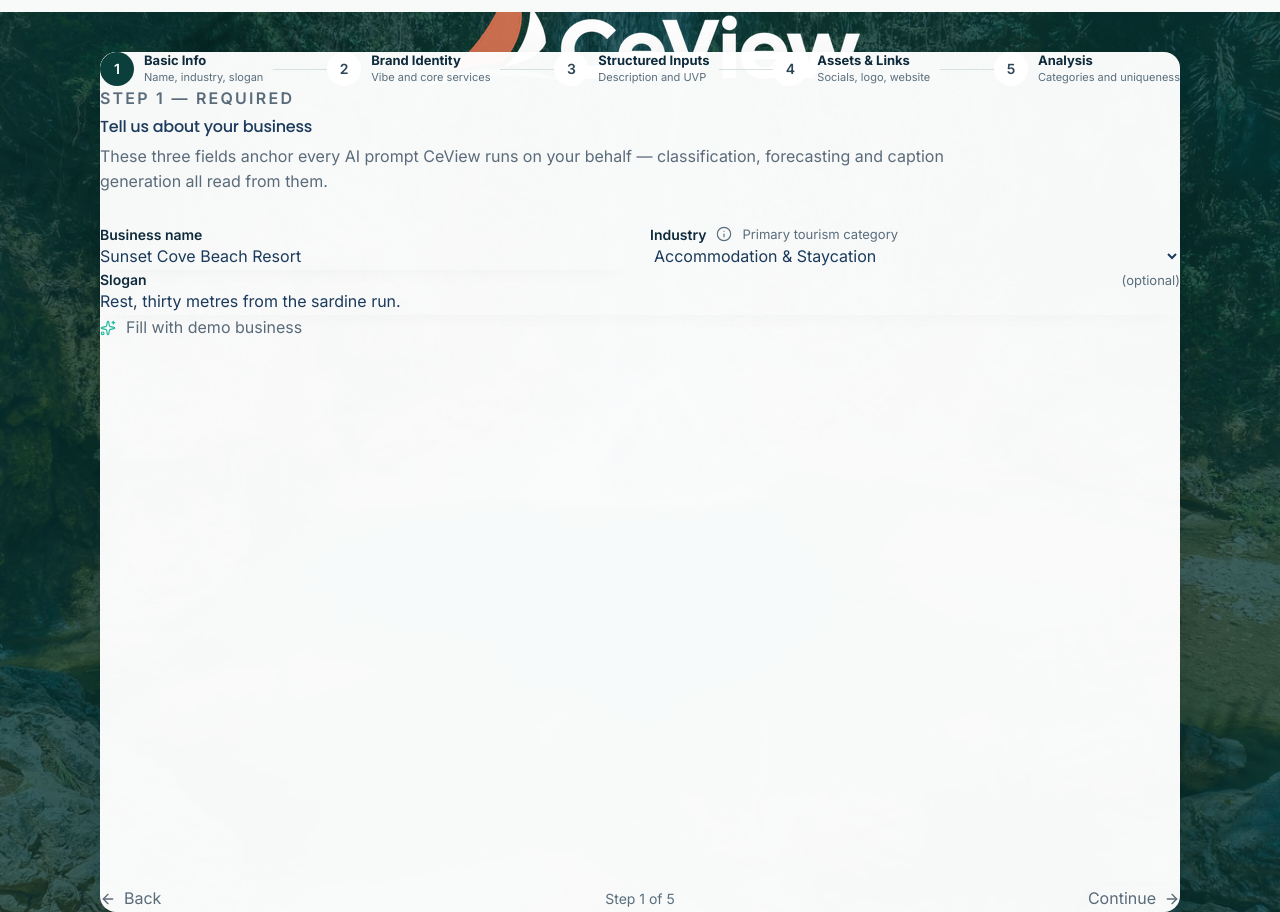
Test: OnboardingWizard › reaches Assets & Links after three Continues and renders that step
Click the button "Continue": (1134, 899) x1=1088 y1=886 x2=1180 y2=911
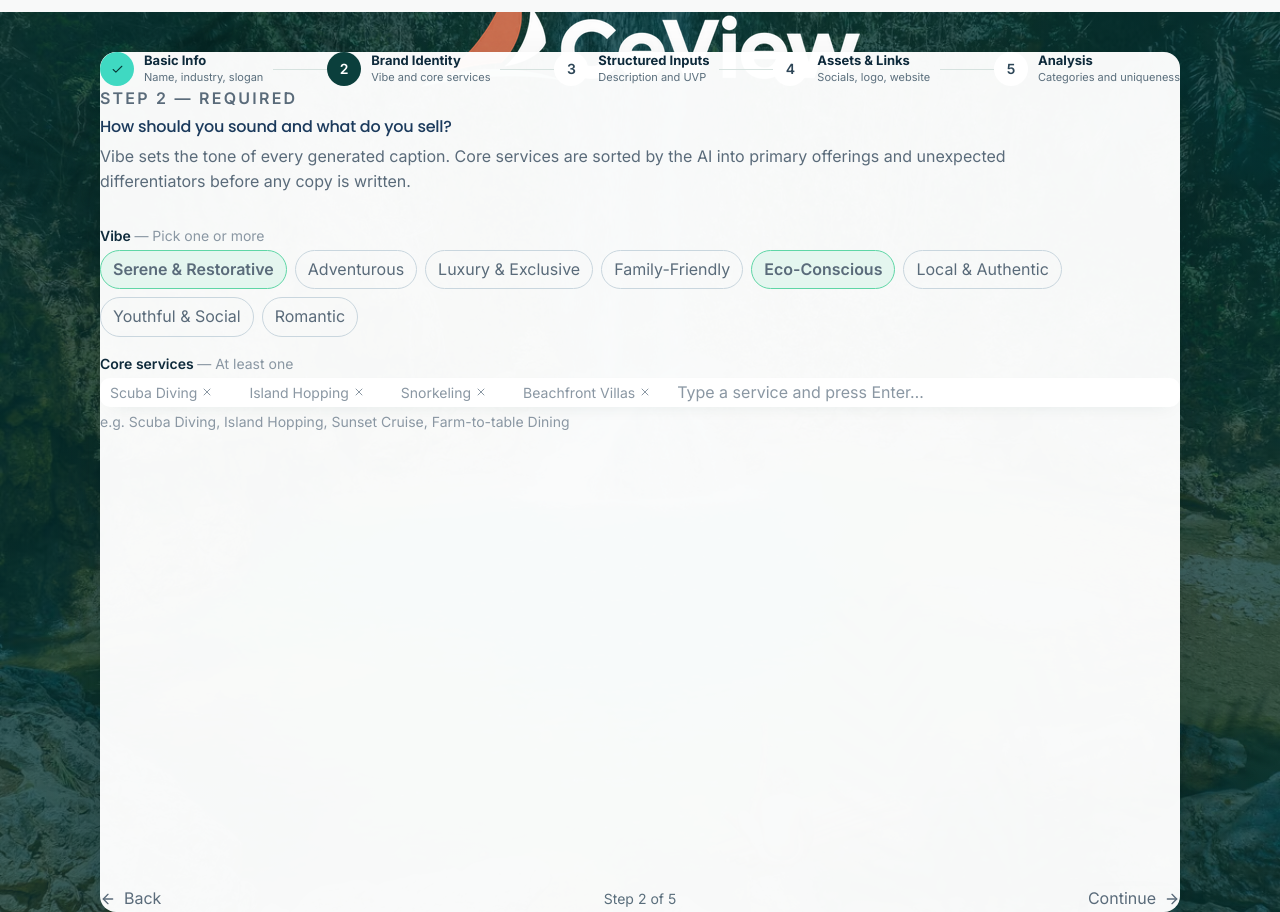
Click the button "Continue": (1134, 899) x1=1088 y1=886 x2=1180 y2=911
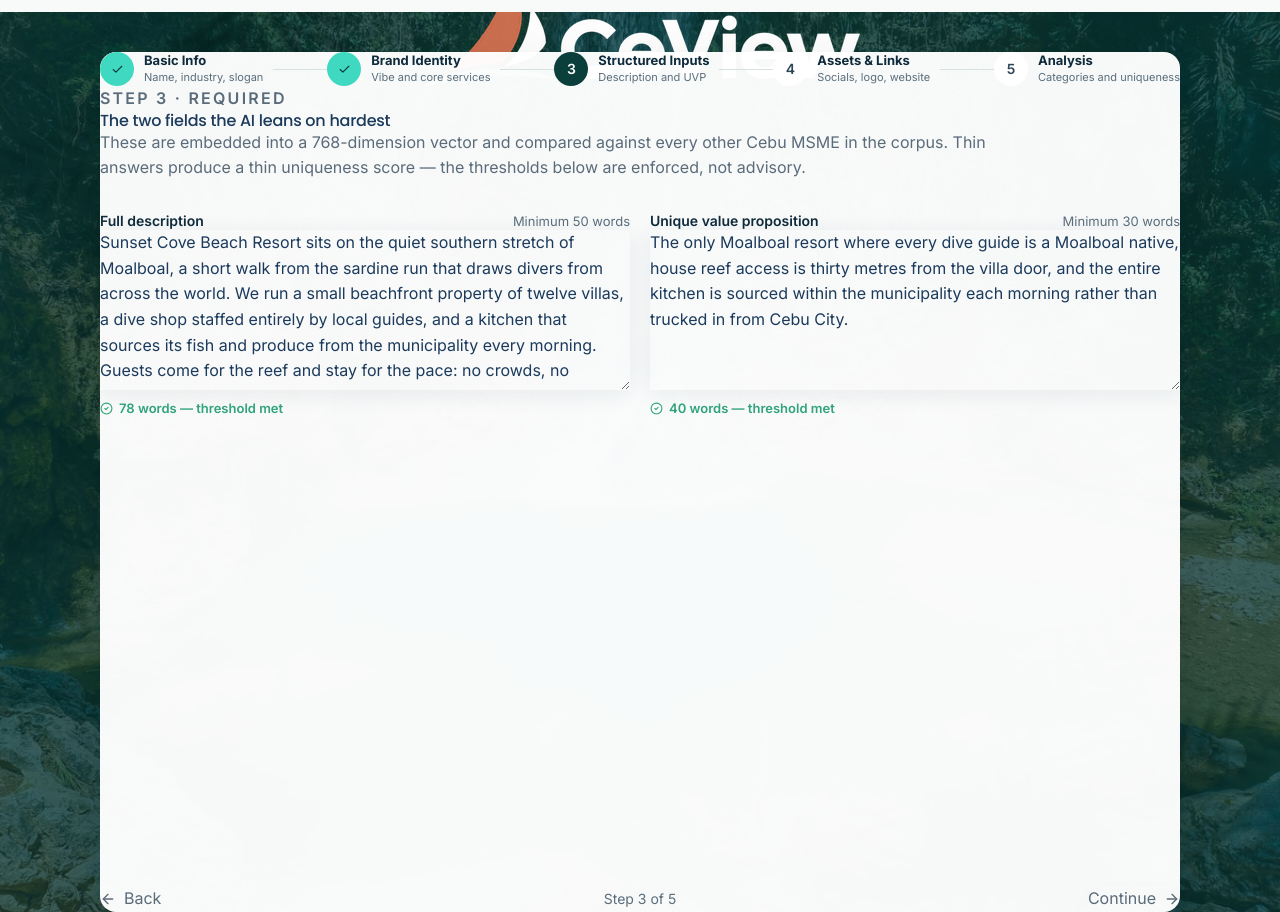
Click the button "Continue": (1134, 899) x1=1088 y1=886 x2=1180 y2=911
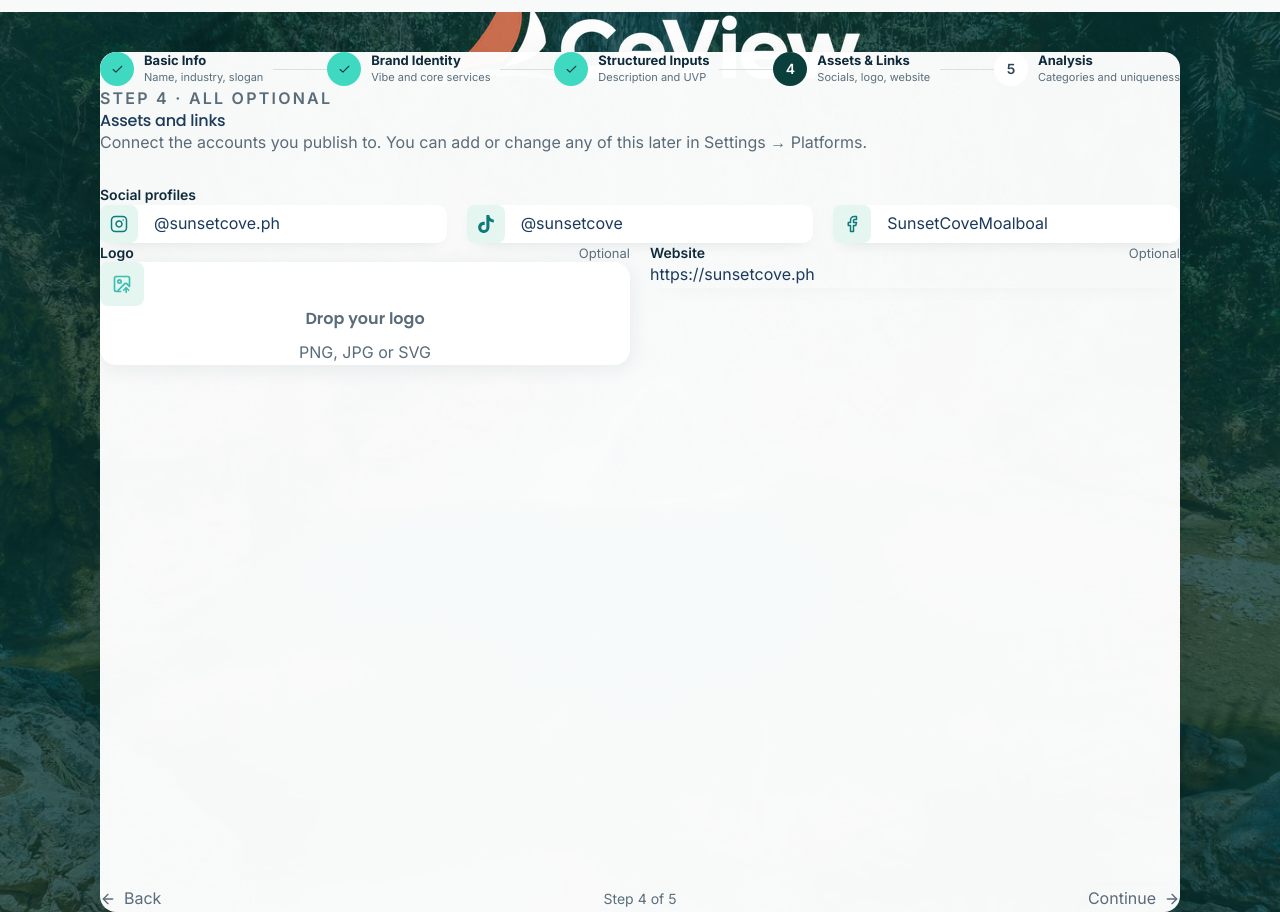
Check: the text "Step 4 of 5" is shown, box x1=604 y1=888 x2=676 y2=910
Check: the field named "Instagram handle or page name" is shown, box x1=154 y1=211 x2=447 y2=236
